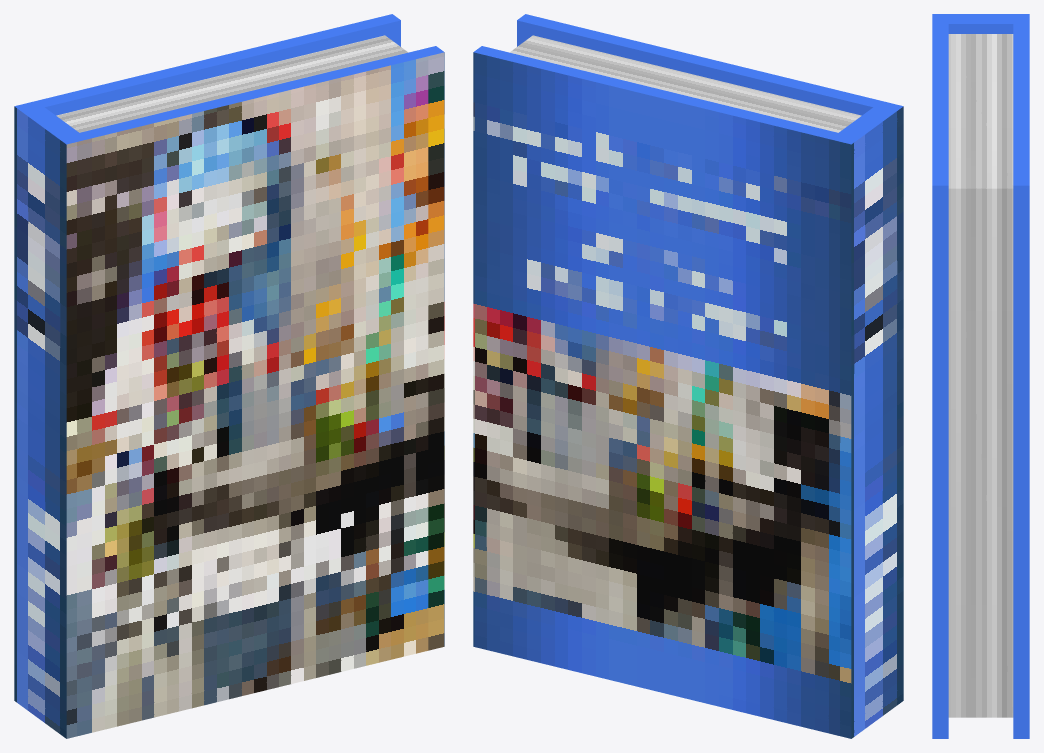
File: book_blue_03.glb
3 views of the same model, side by side, from view 1: azimuth 30°, elevation 25°; view 2: azimuth 150°, elevation 25°; view 3: azimuth 270°, elevation 25° (orthographic). The views are drawn at different scales.
Parts seen in each view (by area): view 1: Book_Blue_3; view 2: Book_Blue_3; view 3: Book_Blue_3.
Boxes of the visible parts, <box> form: Book_Blue_3: <box>14,14,444,738</box>; Book_Blue_3: <box>473,14,903,738</box>; Book_Blue_3: <box>932,14,1029,738</box>.
Size of the model in its own units: 0.1592 by 0.2391 by 0.0381.
Materials: 1 (1 with a texture image).
